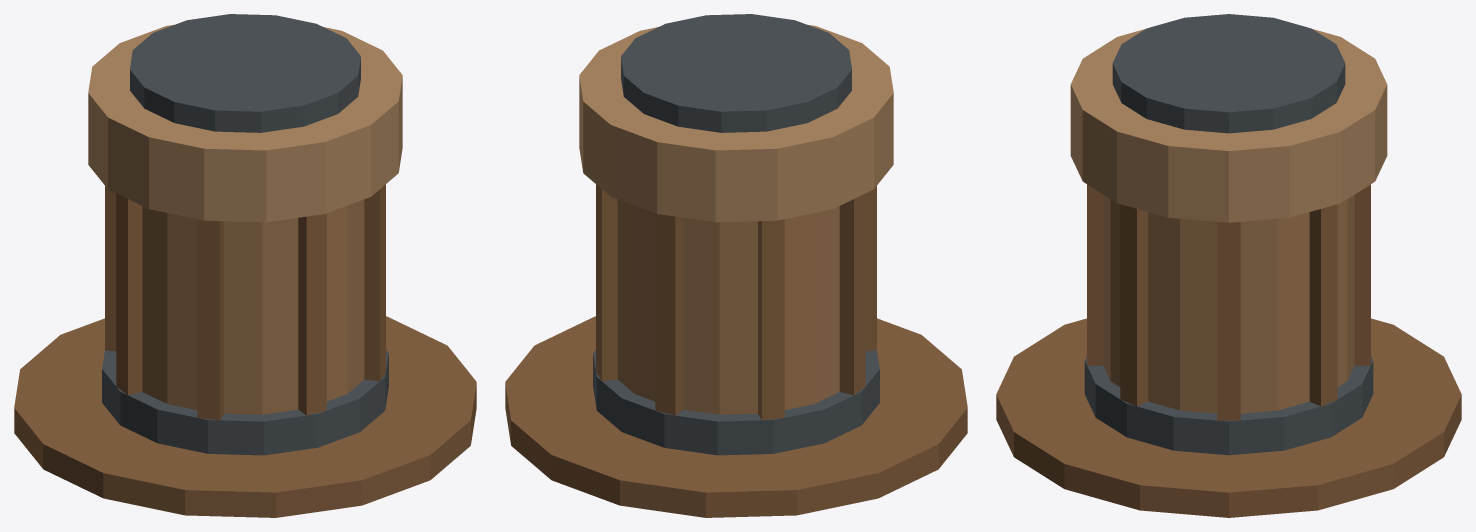
Rendered from Capstan_Base.glb.
3 views of the same model, side by side, from view 1: azimuth 30°, elevation 25°; view 2: azimuth 150°, elevation 25°; view 3: azimuth 270°, elevation 25° (orthographic).
Parts seen in each view (by area): view 1: Capstan_Base; view 2: Capstan_Base; view 3: Capstan_Base.
Boxes of the visible parts, <box> form: Capstan_Base: <box>14,14,476,517</box>; Capstan_Base: <box>505,14,967,517</box>; Capstan_Base: <box>996,14,1461,517</box>.
Bounding box in the file's own units: 2 × 1.69 × 2.
